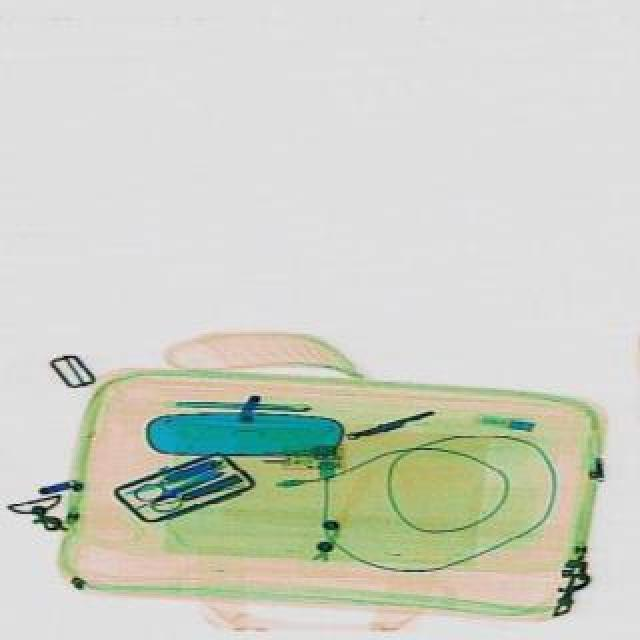pliers: (128, 456, 228, 520)
